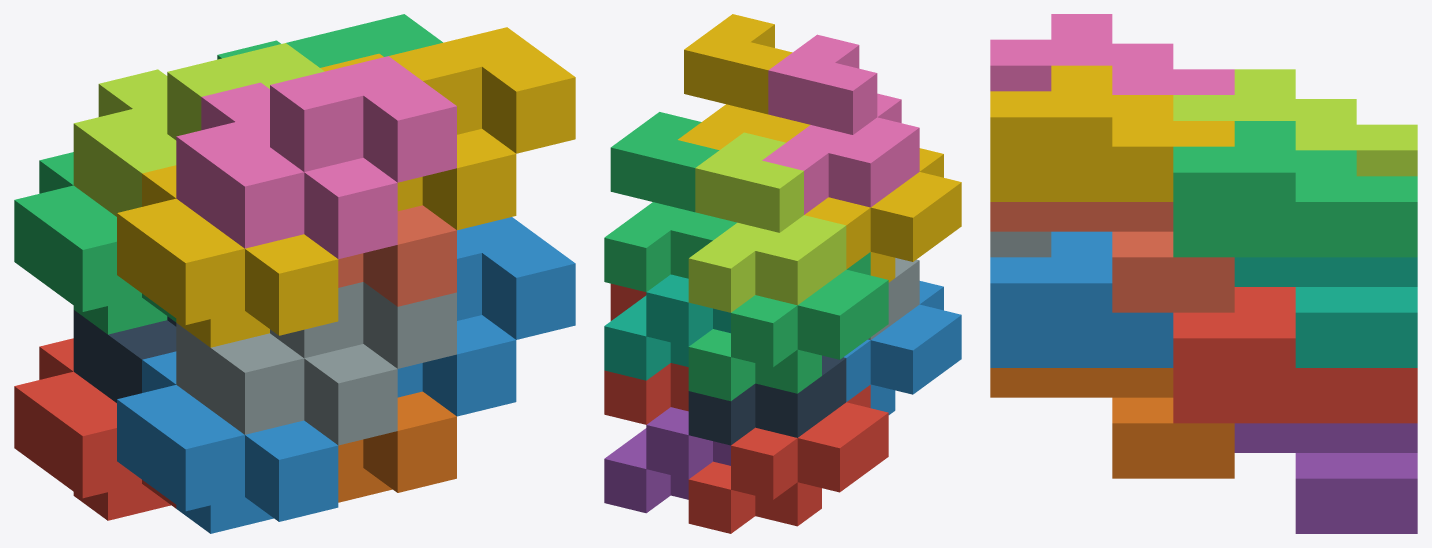
Rendered from tiling.obj.
The picture shows the model from 3 angles, left to right: view 1: azimuth 30°, elevation 25°; view 2: azimuth 150°, elevation 25°; view 3: azimuth 270°, elevation 25°; orthographic projection. The views are drawn at different scales.
Parts seen in each view (by area): view 1: copy_2_domain_4, copy_2_domain_2, copy_1_domain_2, copy_1_domain_4, copy_2_domain_8, copy_2_domain_6, copy_2_domain_3, copy_1_domain_1, copy_1_domain_3, copy_1_domain_6, copy_1_domain_8, copy_2_domain_1 (+1 smaller); view 2: copy_2_domain_3, copy_2_domain_4, copy_1_domain_3, copy_1_domain_1, copy_2_domain_7, copy_2_domain_8, copy_1_domain_4, copy_1_domain_2, copy_1_domain_7, copy_1_domain_5, copy_2_domain_1, copy_2_domain_5 (+1 smaller); view 3: copy_2_domain_7, copy_2_domain_8, copy_2_domain_5, copy_2_domain_6, copy_1_domain_5, copy_1_domain_7, copy_1_domain_6, copy_1_domain_8, copy_2_domain_3, copy_2_domain_4, copy_2_domain_2.
Part boxes in pixels (x1,y1,x2,y2): copy_2_domain_4: [176, 56, 456, 259]; copy_2_domain_2: [176, 282, 456, 445]; copy_1_domain_2: [117, 351, 338, 533]; copy_1_domain_4: [117, 165, 338, 347]; copy_2_domain_8: [320, 27, 575, 230]; copy_2_domain_6: [397, 217, 575, 416]; copy_2_domain_3: [73, 43, 324, 216]; copy_1_domain_1: [14, 338, 176, 520]; copy_1_domain_3: [14, 152, 176, 334]; copy_1_domain_6: [338, 391, 456, 502]; copy_1_domain_8: [338, 205, 456, 306]; copy_2_domain_1: [73, 310, 176, 402]; copy_2_domain_3: [688, 132, 846, 312]; copy_2_domain_4: [762, 34, 919, 214]; copy_1_domain_3: [688, 252, 888, 401]; copy_1_domain_1: [688, 385, 888, 533]; copy_2_domain_7: [604, 112, 736, 292]; copy_2_domain_8: [678, 14, 810, 149]; copy_1_domain_4: [804, 148, 961, 282]; copy_1_domain_2: [844, 281, 961, 414]; copy_1_domain_7: [604, 274, 730, 380]; copy_1_domain_5: [604, 407, 730, 513]; copy_2_domain_1: [688, 355, 846, 445]; copy_2_domain_5: [604, 283, 688, 424]; copy_2_domain_7: [1173, 121, 1417, 257]; copy_2_domain_8: [990, 65, 1234, 201]; copy_2_domain_5: [1173, 287, 1417, 423]; copy_2_domain_6: [990, 231, 1173, 367]; copy_1_domain_5: [1234, 423, 1417, 533]; copy_1_domain_7: [1234, 257, 1417, 367]; copy_1_domain_6: [990, 368, 1234, 478]; copy_1_domain_8: [990, 202, 1234, 312]; copy_2_domain_3: [1173, 69, 1417, 176]; copy_2_domain_4: [990, 14, 1234, 94]; copy_2_domain_2: [990, 231, 1051, 257].
Bounding box in the file's own units: 6 × 8 × 7.
